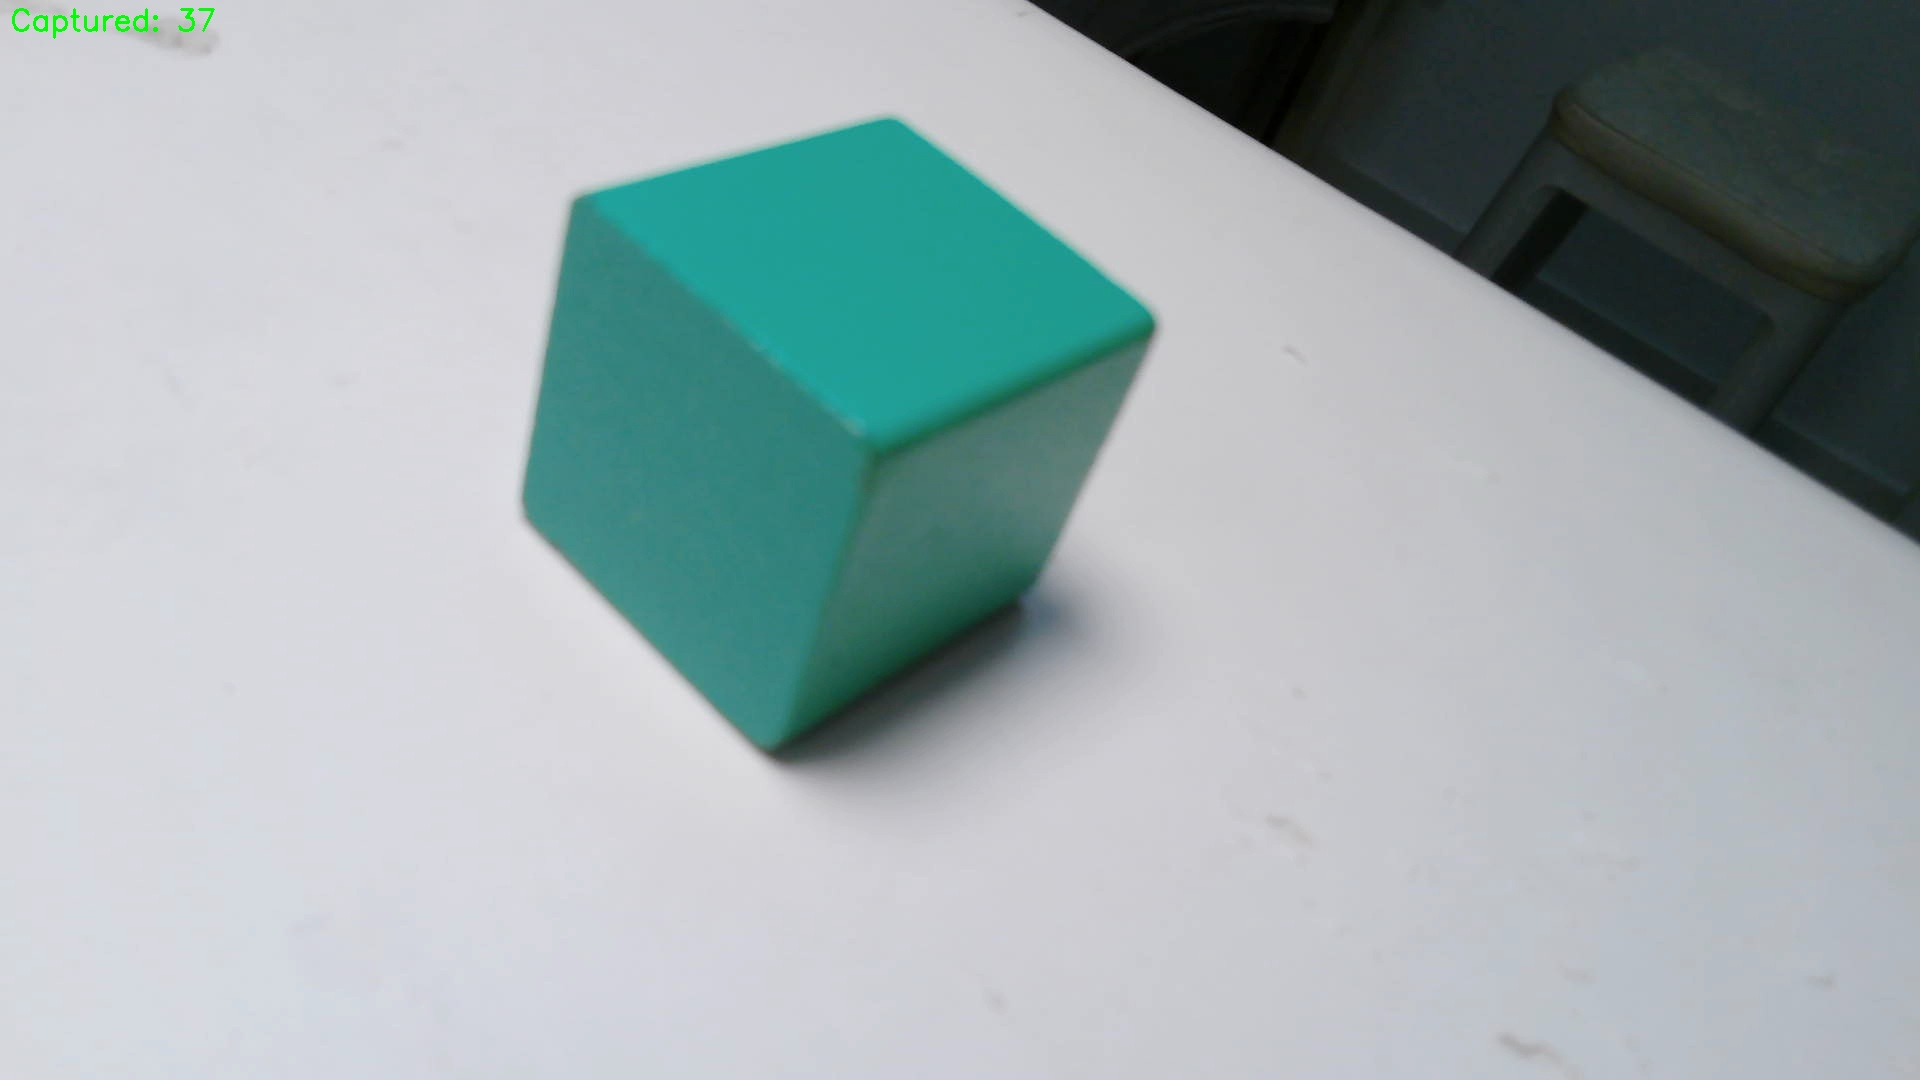green: (526, 117, 1156, 746)
